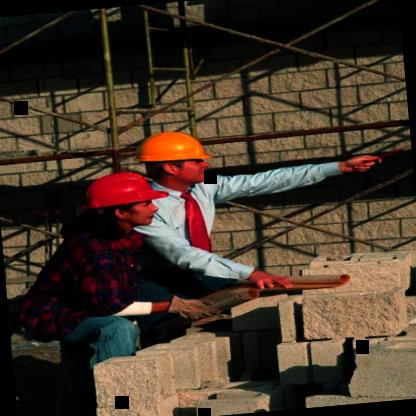helmet: (73, 169, 169, 243), (136, 126, 226, 190)
